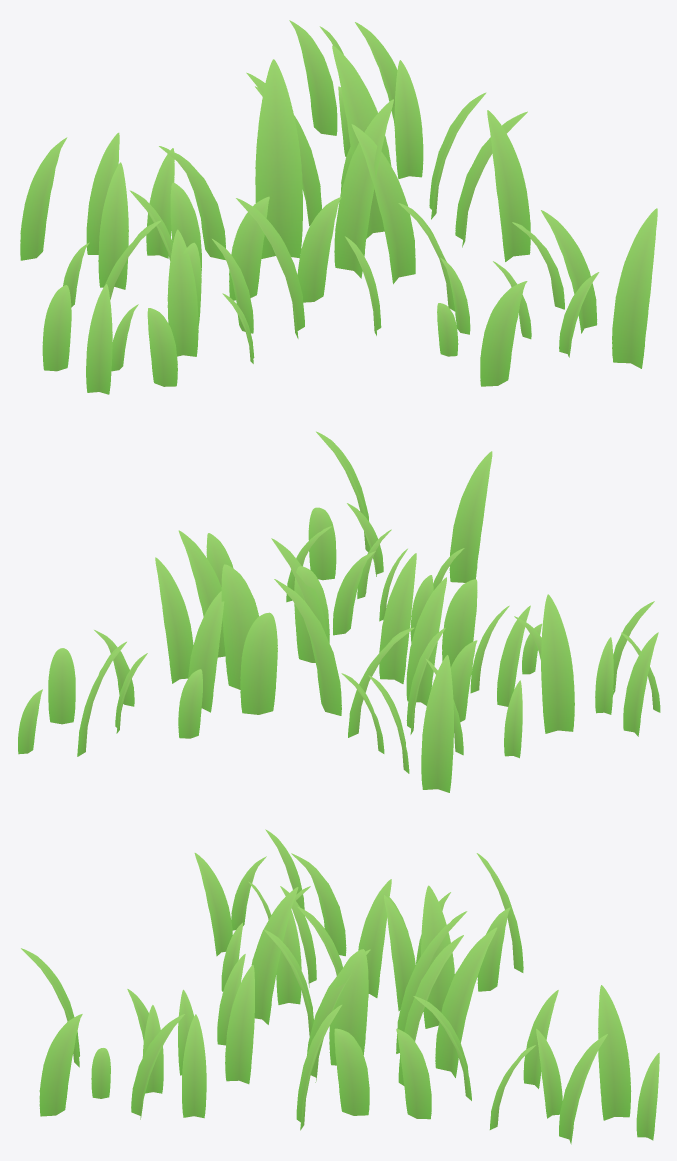
File: SM_Grass02.fbx
The picture shows the model from 3 angles, top to bottom: view 1: azimuth 30°, elevation 25°; view 2: azimuth 150°, elevation 25°; view 3: azimuth 270°, elevation 25°; orthographic projection. The views are drawn at different scales.
Parts seen in each view (by area): view 1: GrassPatch Main.002; view 2: GrassPatch Main.002; view 3: GrassPatch Main.002.
Part boxes in pixels (<box>): GrassPatch Main.002: <box>20,20,657,394</box>; GrassPatch Main.002: <box>18,431,660,792</box>; GrassPatch Main.002: <box>21,829,659,1144</box>.
Size of the model in its own units: 2.67 by 3.18 by 0.8628.
